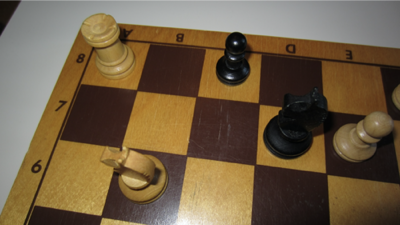black-knight: (263, 87, 330, 161)
black-pawn: (216, 32, 251, 87)
white-knight: (100, 146, 171, 206)
white-pawn: (333, 111, 395, 163)
white-rook: (80, 13, 138, 81)
